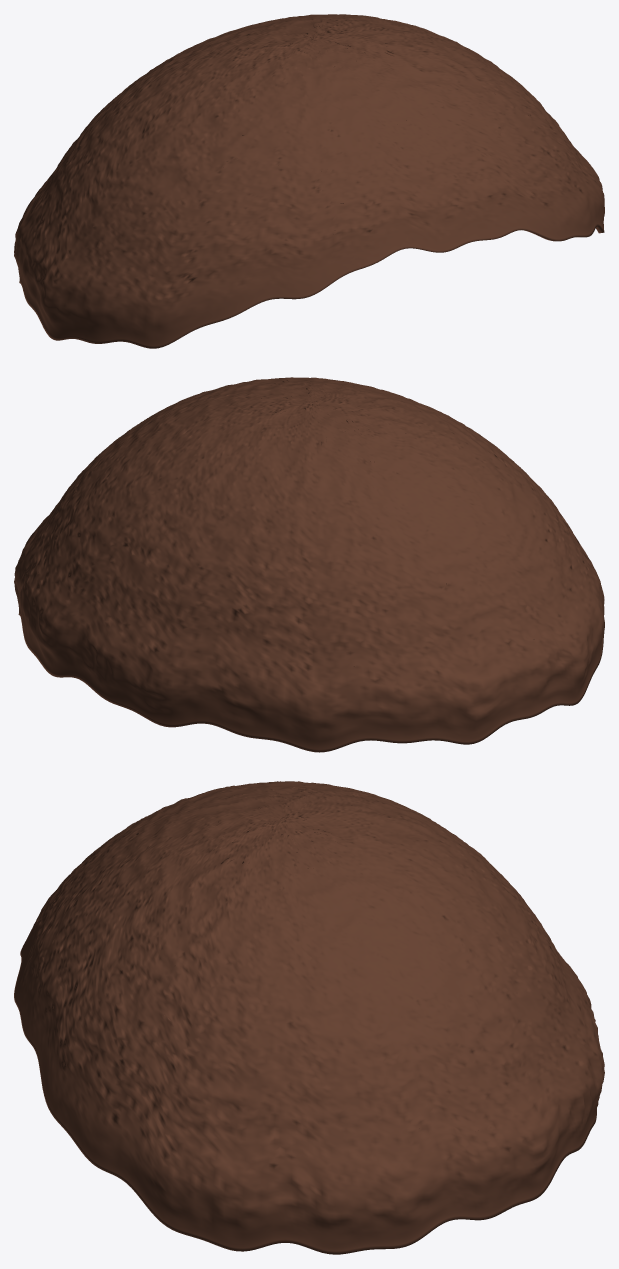
Rendered from Masculine-afro-cap260-hair.glb.
The picture shows the model from 3 angles, top to bottom: view 1: azimuth 30°, elevation 25°; view 2: azimuth 150°, elevation 25°; view 3: azimuth 270°, elevation 25°; orthographic projection. The views are drawn at different scales.
Parts seen in each view (by area): view 1: 226 hair / Hair252 / dense natural coil groups.001; view 2: 226 hair / Hair252 / dense natural coil groups.001; view 3: 226 hair / Hair252 / dense natural coil groups.001.
Boxes of the visible parts, x1=… form: 226 hair / Hair252 / dense natural coil groups.001: x1=14, y1=14, x2=604, y2=348; 226 hair / Hair252 / dense natural coil groups.001: x1=14, y1=377, x2=604, y2=752; 226 hair / Hair252 / dense natural coil groups.001: x1=14, y1=781, x2=604, y2=1254.
Size of the model in its own units: 0.9775 by 0.4124 by 0.7691.
